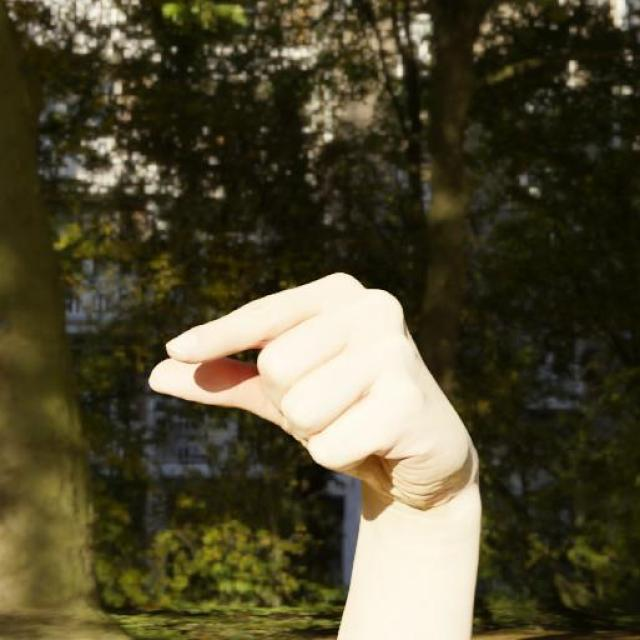G: (136, 267, 493, 521)
